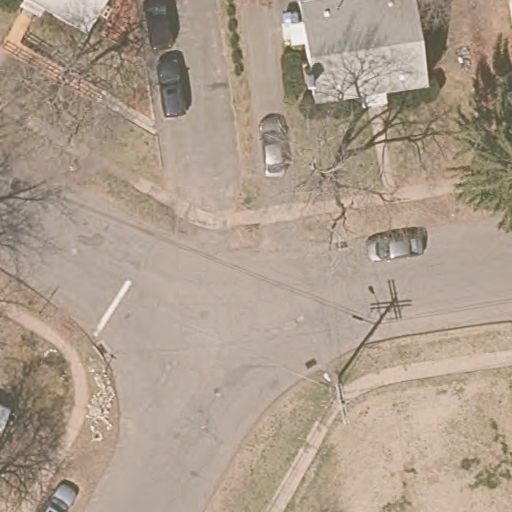DT: (320, 371, 353, 425)
